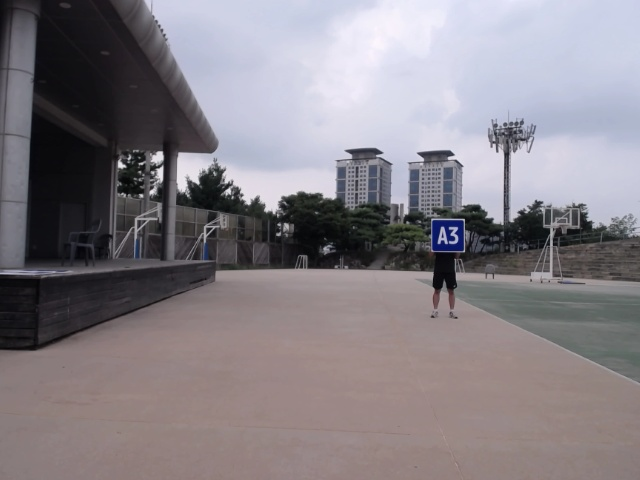delivery_a3: (431, 218, 465, 252)
